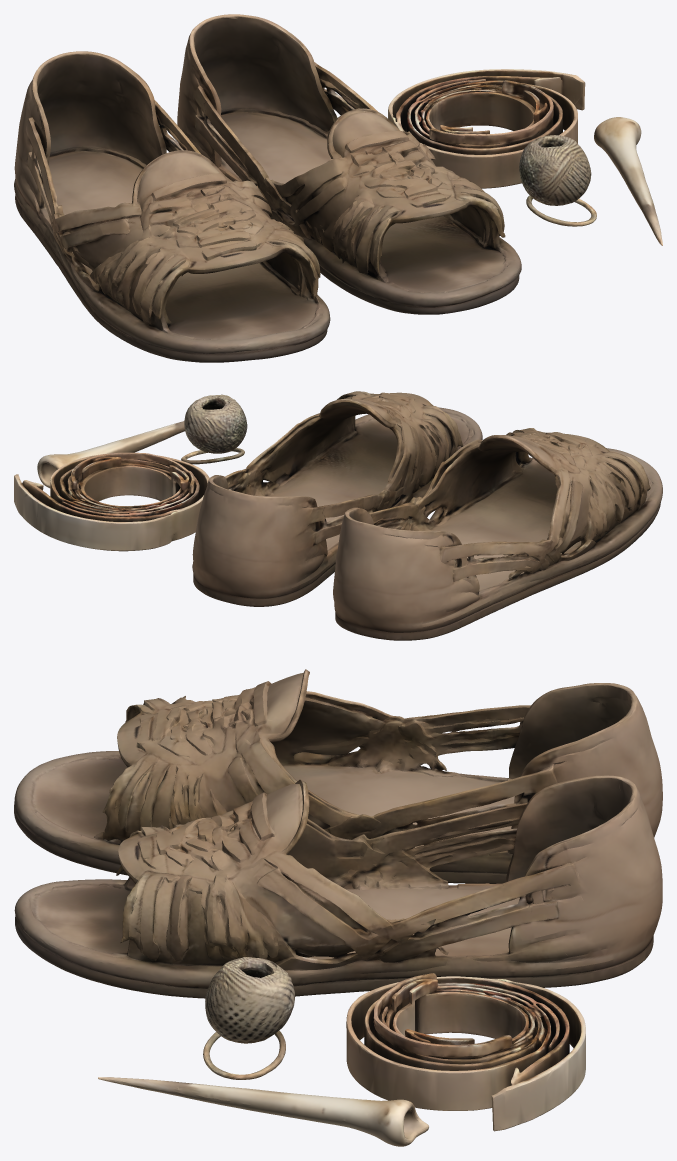
Rendered from Ojotas (sandalias).glb.
The picture shows the model from 3 angles, top to bottom: view 1: azimuth 30°, elevation 25°; view 2: azimuth 150°, elevation 25°; view 3: azimuth 270°, elevation 25°; orthographic projection. The views are drawn at different scales.
Parts seen in each view (by area): view 1: Ojotas (sandalias); view 2: Ojotas (sandalias); view 3: Ojotas (sandalias).
Part boxes in pixels (bbox=[...]): Ojotas (sandalias): bbox=[14, 14, 662, 362]; Ojotas (sandalias): bbox=[14, 391, 662, 640]; Ojotas (sandalias): bbox=[14, 669, 662, 1146].
Bounding box in the file's own units: 1.76 × 0.4073 × 1.34.
1 material, 1 textured.
